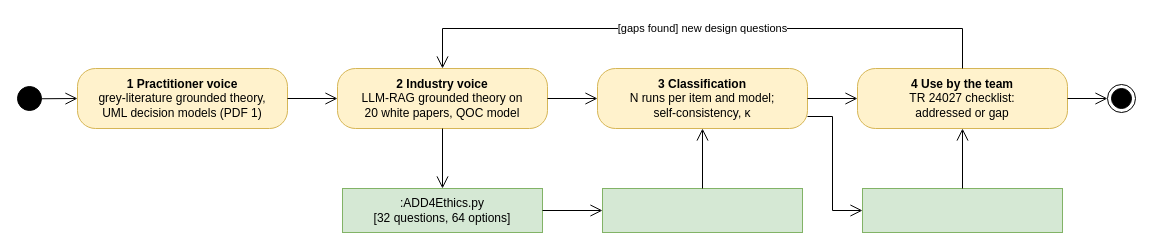
The diagram is 1153 pixels wide and 250 high, and some of its shapes have lost their labels. Here are the shapes that lost their labels. From the top down, the centre of each, then its label:
At (702,210): ":ethical-ai-metaverse.json [74 items]".
At (962,210): ":Report (HTML, CSV, JSON) [labels, κ, checklist]".
